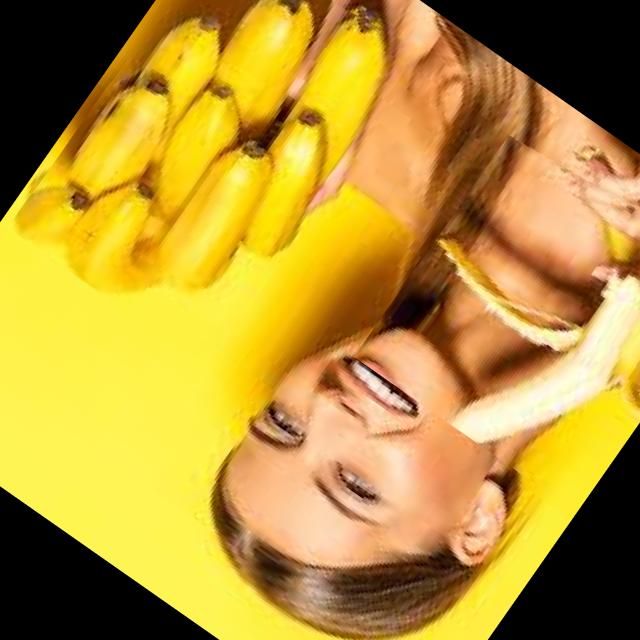Organic: (5, 0, 416, 360), (353, 114, 640, 511)
